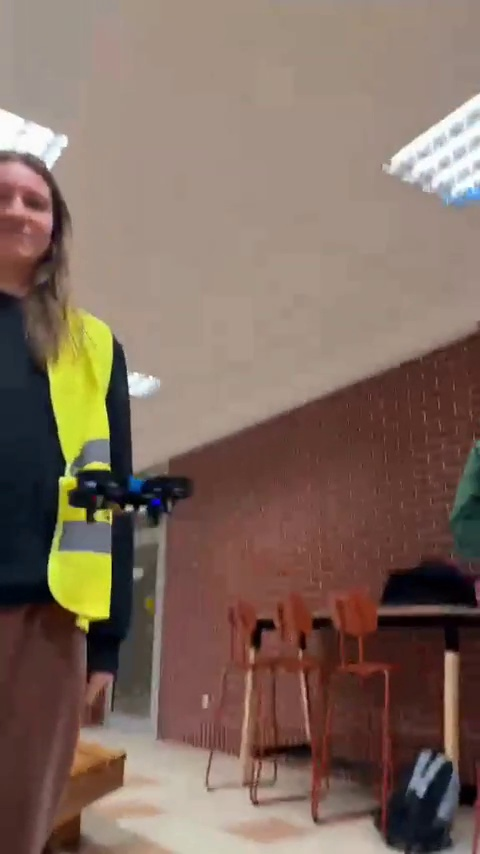drone: (77, 472, 195, 520)
vest: (0, 141, 147, 844)
